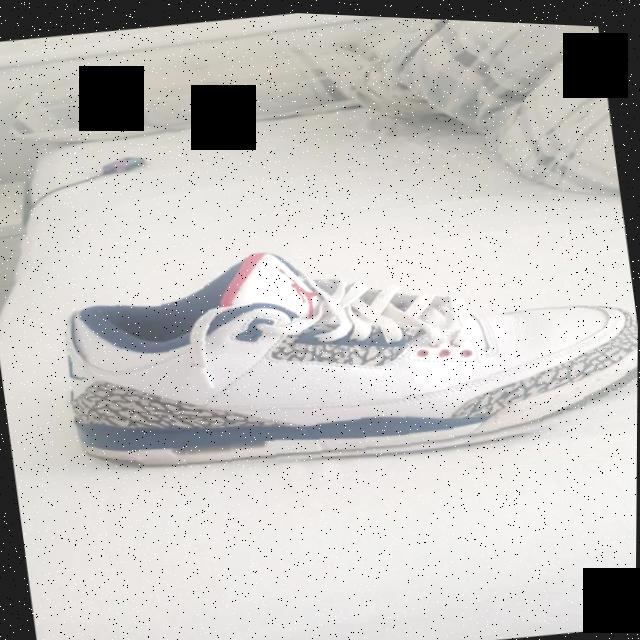shoe: (41, 192, 639, 505)
